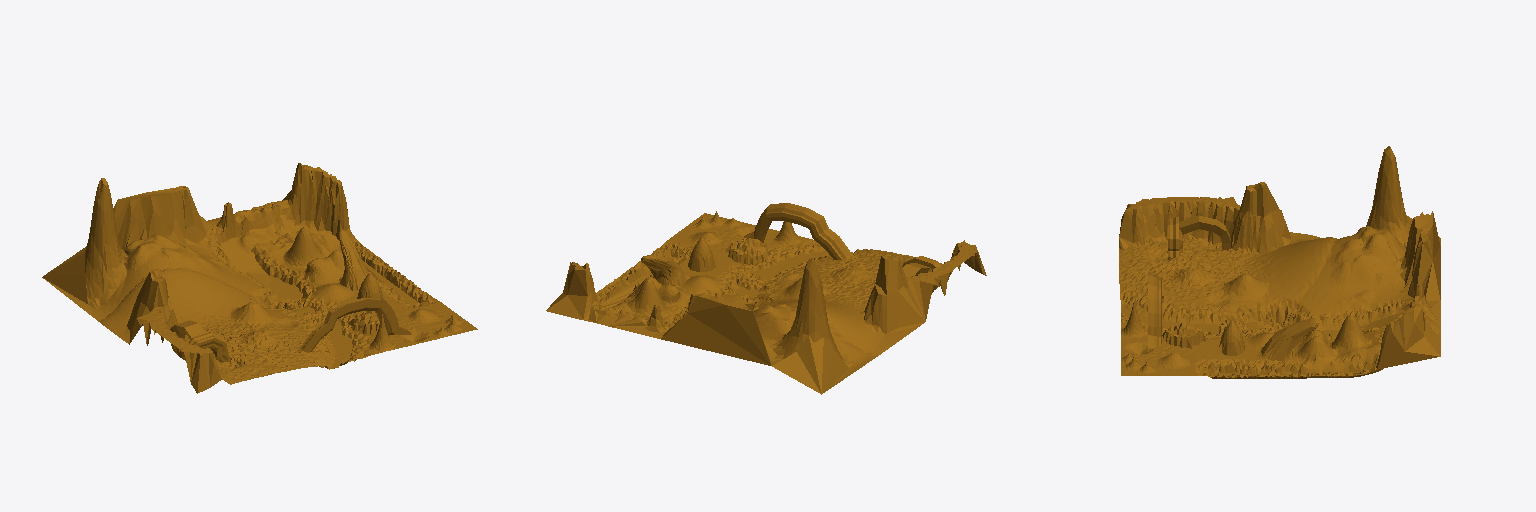
File: TerrianKhoobLunari2.obj
The picture shows the model from 3 angles: view 1: azimuth 30°, elevation 25°; view 2: azimuth 150°, elevation 25°; view 3: azimuth 270°, elevation 25°; orthographic projection.
Visible parts, largest first — view 1: Plane; view 2: Plane; view 3: Plane.
Boxes of the visible parts, x1=… form: Plane: x1=42, y1=163, x2=477, y2=393; Plane: x1=546, y1=203, x2=986, y2=394; Plane: x1=1119, y1=146, x2=1440, y2=378.
Bounding box in the file's own units: 557 × 231 × 544.